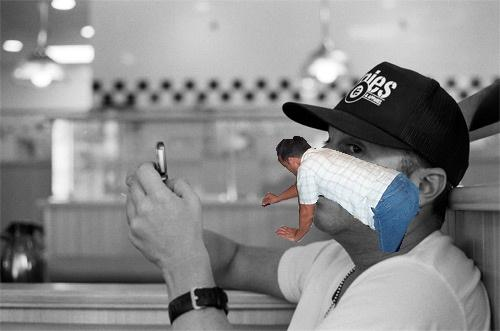tampered: (263, 137, 419, 252)
